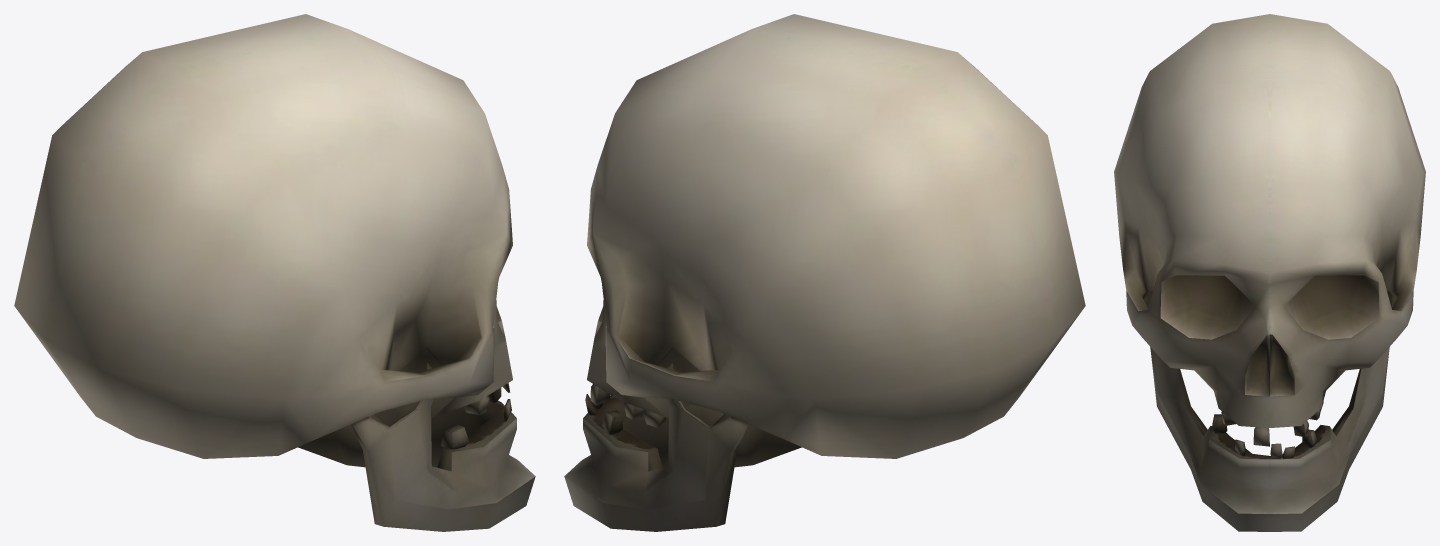
3 views of the same model, side by side, from view 1: azimuth 30°, elevation 25°; view 2: azimuth 150°, elevation 25°; view 3: azimuth 270°, elevation 25° (orthographic). The views are drawn at different scales.
Parts seen in each view (by area): view 1: body0_model0_lod0_mesh0; view 2: body0_model0_lod0_mesh0; view 3: body0_model0_lod0_mesh0.
Part boxes in pixels (box(x1,y1,x2,y2)): body0_model0_lod0_mesh0: box(14, 14, 535, 531); body0_model0_lod0_mesh0: box(564, 14, 1085, 531); body0_model0_lod0_mesh0: box(1114, 14, 1425, 531).
Bounding box in the file's own units: 12.11 × 12.25 × 8.85.
1 material, 1 textured.
